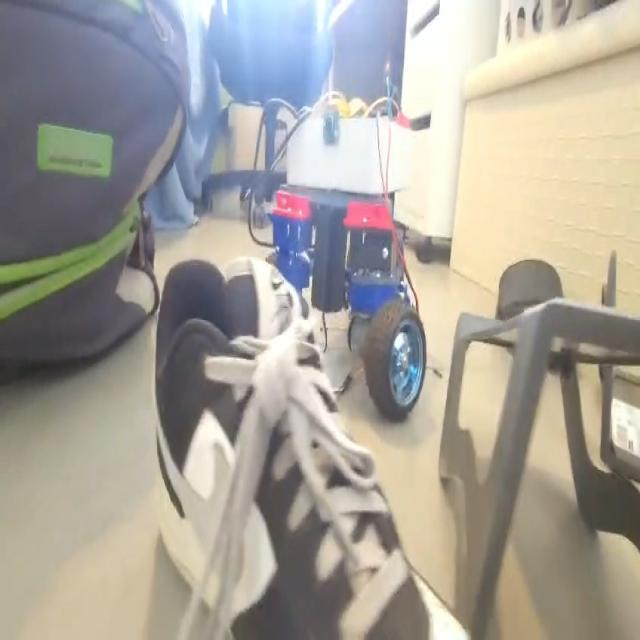Robot: (265, 102, 426, 426)
